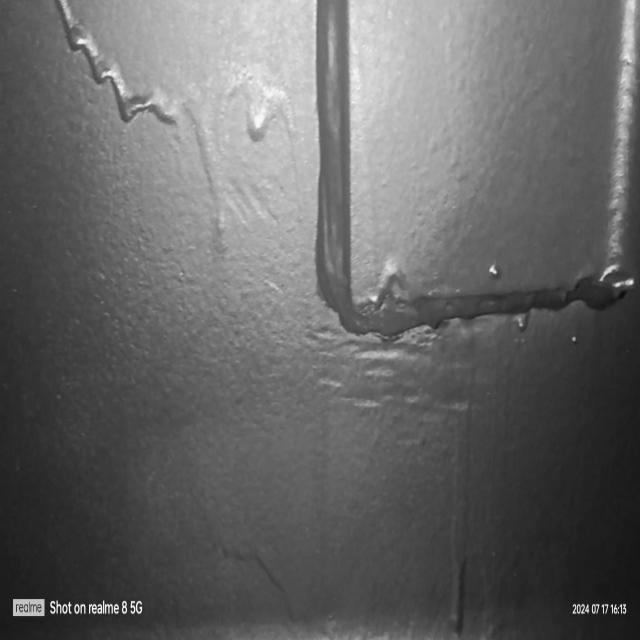paint drips: (54, 0, 305, 261), (443, 339, 478, 640), (216, 532, 310, 630), (508, 315, 544, 355), (480, 259, 508, 292)
